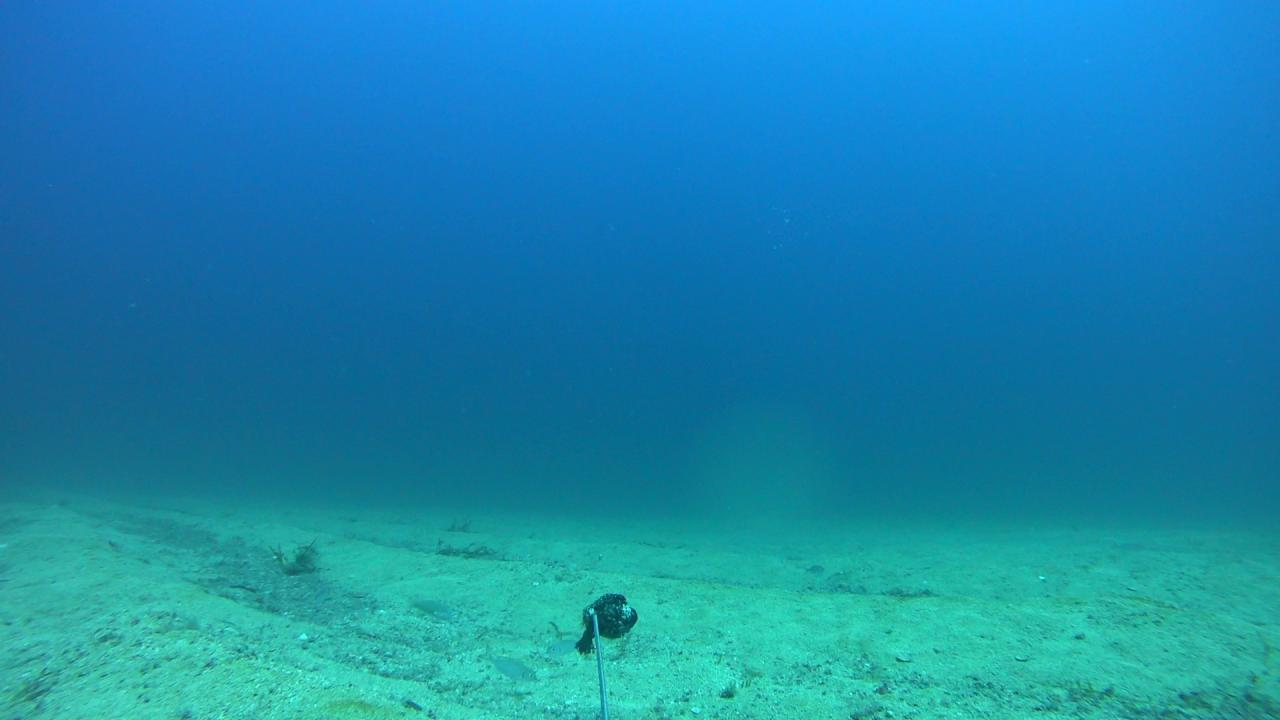pagellus: (478, 646, 536, 681), (545, 641, 578, 660)
